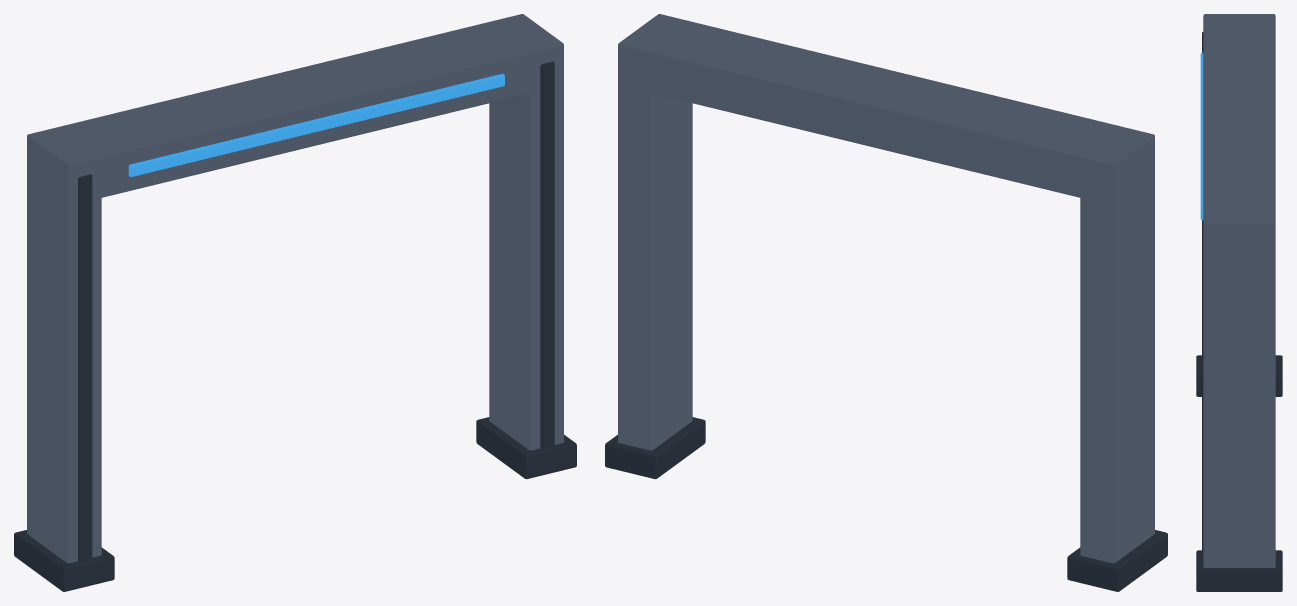
File: puerta_marco.glb
3 renders of one model, left to right at view 1: azimuth 30°, elevation 25°; view 2: azimuth 150°, elevation 25°; view 3: azimuth 270°, elevation 25°, orthographic. The views are drawn at different scales.
Parts seen in each view (by area): view 1: Cube.037, Cube.033, Cube.035, Cube.034, Cube.036, Cube.038, Cube.039, Cube.040; view 2: Cube.037, Cube.033, Cube.035, Cube.039, Cube.040; view 3: Cube.035, Cube.037, Cube.040, Cube.036, Cube.038, Cube.039.
Part boxes in pixels (bbox=[...]): Cube.037: bbox=[27, 14, 563, 204]; Cube.033: bbox=[27, 137, 101, 563]; Cube.035: bbox=[489, 44, 563, 450]; Cube.034: bbox=[78, 174, 92, 561]; Cube.036: bbox=[540, 61, 554, 448]; Cube.038: bbox=[128, 73, 504, 176]; Cube.039: bbox=[14, 530, 114, 591]; Cube.040: bbox=[476, 417, 576, 479]; Cube.037: bbox=[618, 14, 1154, 204]; Cube.033: bbox=[1080, 135, 1154, 563]; Cube.035: bbox=[618, 45, 692, 450]; Cube.039: bbox=[1067, 530, 1167, 591]; Cube.040: bbox=[605, 417, 705, 479]; Cube.035: bbox=[1203, 211, 1275, 567]; Cube.037: bbox=[1203, 14, 1275, 257]; Cube.040: bbox=[1196, 550, 1282, 591]; Cube.036: bbox=[1202, 227, 1203, 563]; Cube.038: bbox=[1200, 52, 1203, 220]; Cube.039: bbox=[1196, 355, 1282, 396].
Size of the model in its own units: 3.56 by 2.8 by 0.6.
